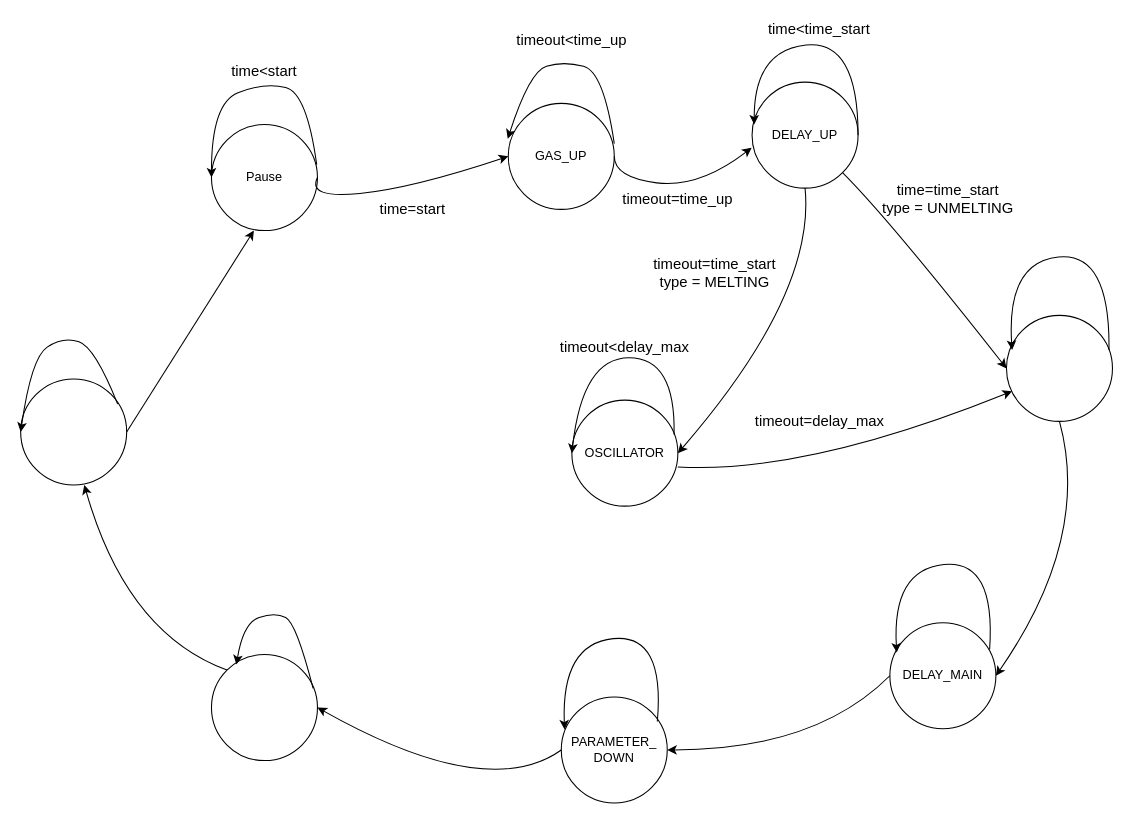
This 1132x821 diagram has some shape labels left out. Here are the shapes that lost their labels. From the top down, the centre of each, then its label:
At (x=1058, y=367): "PARAMETER_UP".
At (x=73, y=431): "GAS_DOWN".
At (x=263, y=707): "DELAY_DOWN".
